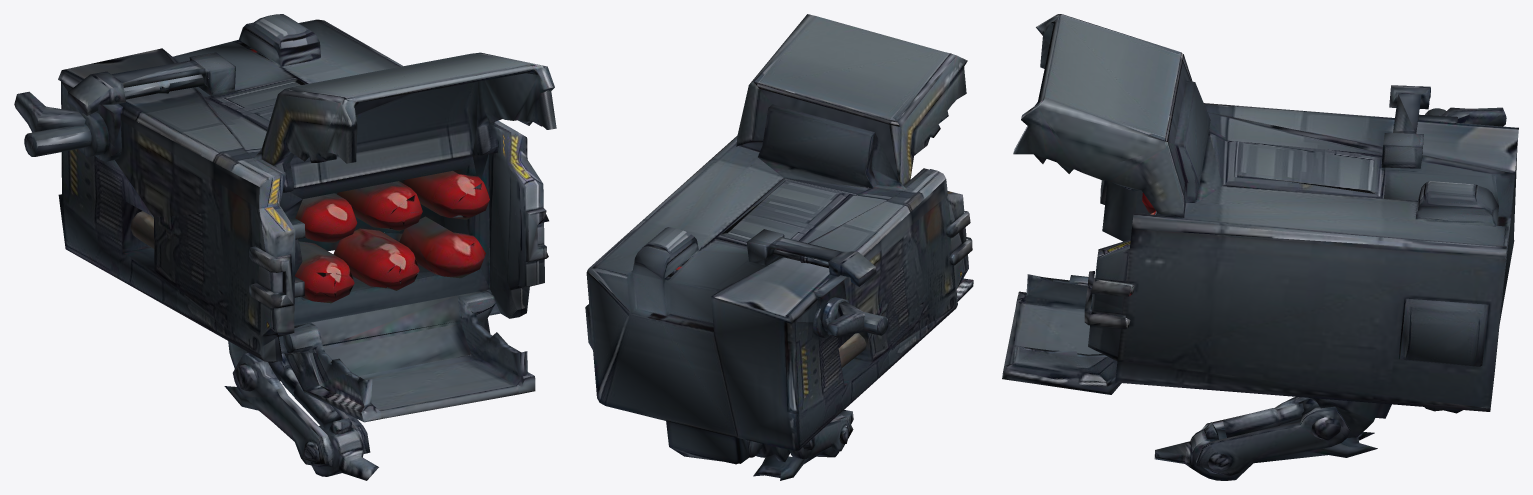
3 renders of one model, left to right at view 1: azimuth 30°, elevation 25°; view 2: azimuth 150°, elevation 25°; view 3: azimuth 270°, elevation 25°, orthographic. The views are drawn at different scales.
Visible parts, largest first — view 1: gun; view 2: gun; view 3: gun.
Part boxes in pixels (x1,y1,x2,y2): gun: [14, 14, 556, 480]; gun: [585, 14, 973, 480]; gun: [1002, 14, 1518, 480].
Size of the model in its own units: 0.8859 by 1.1 by 1.2.
Materials: 1 (1 with a texture image).
